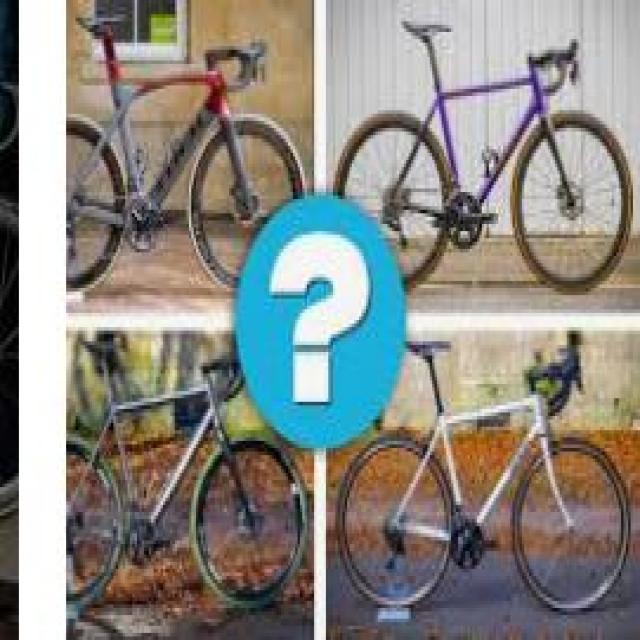bicycle: (339, 15, 634, 293), (341, 335, 632, 616), (65, 360, 313, 634), (67, 12, 303, 297)
